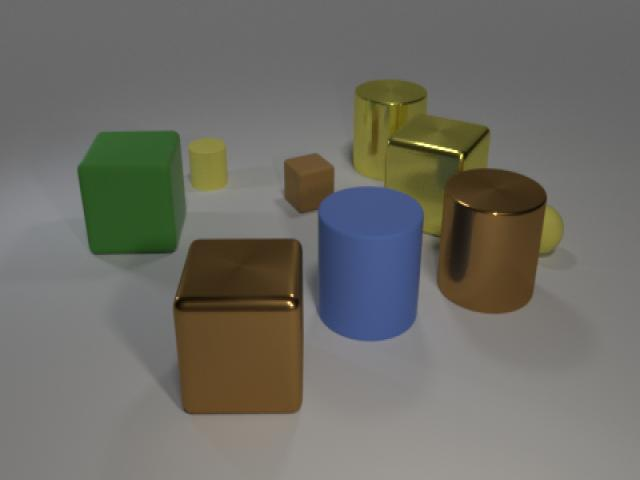cylinder: (314, 179, 426, 346), (435, 164, 548, 316), (349, 71, 431, 180), (184, 131, 232, 195)
round ball: (535, 200, 567, 258)
